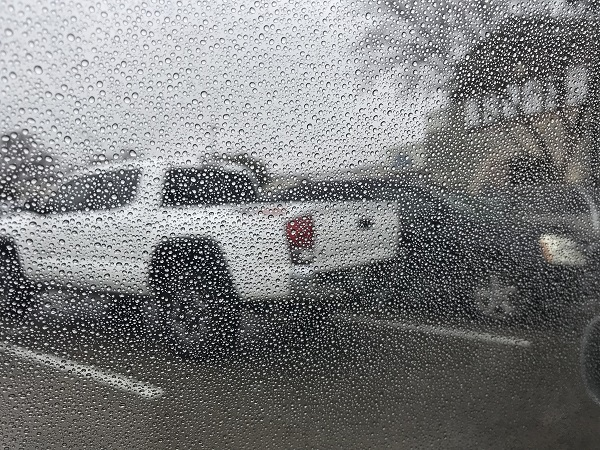car: (288, 175, 585, 324)
truck: (4, 160, 398, 360)
